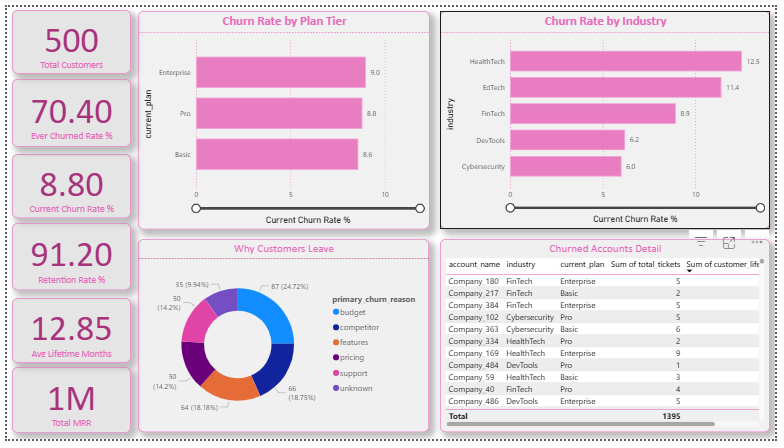

What the dashboard file says about the page in this screenshot:
{"tool":"powerbi","page":{"name":"Executive Overview","canvas":[1280,720],"ordinal":0},"visuals":[{"type":"card","fields":{"Values":["ravenstack_master_analysis_final.Current Churn Rate %"]},"box":[8.3,245,198.3,106.7],"z":0},{"type":"card","fields":{"Values":["ravenstack_master_analysis_final.Total Customers"]},"box":[8.3,5,198.3,105.8],"z":1000},{"type":"card","fields":{"Values":["ravenstack_master_analysis_final.Retention Rate %"]},"box":[8.3,360,198.3,111.7],"z":2000},{"type":"card","fields":{"Values":["ravenstack_master_analysis_final.Avg Lifetime Months"]},"box":[8.3,484.2,198.3,108.3],"z":3000},{"type":"card","fields":{"Values":["ravenstack_master_analysis_final.Total MRR"]},"box":[8.3,600,198.3,110],"z":4000},{"type":"clusteredBarChart","title":"Churn Rate by Plan Tier","fields":{"Category":["ravenstack_master_analysis_final.current_plan"],"Y":["ravenstack_master_analysis_final.Current Churn Rate %"]},"box":[218.5,6.2,486.2,363.8],"z":5000},{"type":"clusteredBarChart","title":"Churn Rate by Industry","fields":{"Category":["ravenstack_master_analysis_final.industry"],"Y":["ravenstack_master_analysis_final.Current Churn Rate %"]},"box":[721.7,6.7,550,363.3],"z":6000},{"type":"donutChart","title":"Why Customers Leave","fields":{"Y":["ravenstack_master_analysis_final.Churned Customers"],"Category":["ravenstack_master_analysis_final.primary_churn_reason"]},"box":[218.5,386.9,484.6,321.5],"z":7000},{"type":"tableEx","title":"Churned Accounts Detail","fields":{"Values":["ravenstack_master_analysis_final.account_name","ravenstack_master_analysis_final.industry","ravenstack_master_analysis_final.current_plan","Sum(ravenstack_master_analysis_final.total_tickets)","Sum(ravenstack_master_analysis_final.customer_lifetime_months)"]},"box":[721.7,386.7,550,321.7],"z":8000},{"type":"card","fields":{"Values":["ravenstack_master_analysis_final.Ever Churned Rate %"]},"box":[8.3,120,198.3,113.3],"z":9000}]}

Visuals, with their boxes in screenshot pixels (x1, y1, x2, y2), scaled from the page's 1280x720 canvas onto the 784x448 screenshot:
card - ravenstack_master_analysis_final.Current Churn Rate %: 5/152/127/219
card - ravenstack_master_analysis_final.Total Customers: 5/3/127/69
card - ravenstack_master_analysis_final.Retention Rate %: 5/224/127/294
card - ravenstack_master_analysis_final.Avg Lifetime Months: 5/301/127/369
card - ravenstack_master_analysis_final.Total MRR: 5/373/127/442
"Churn Rate by Plan Tier" clusteredBarChart: 134/4/432/230
"Churn Rate by Industry" clusteredBarChart: 442/4/779/230
"Why Customers Leave" donutChart: 134/241/431/441
"Churned Accounts Detail" tableEx: 442/241/779/441
card - ravenstack_master_analysis_final.Ever Churned Rate %: 5/75/127/145
